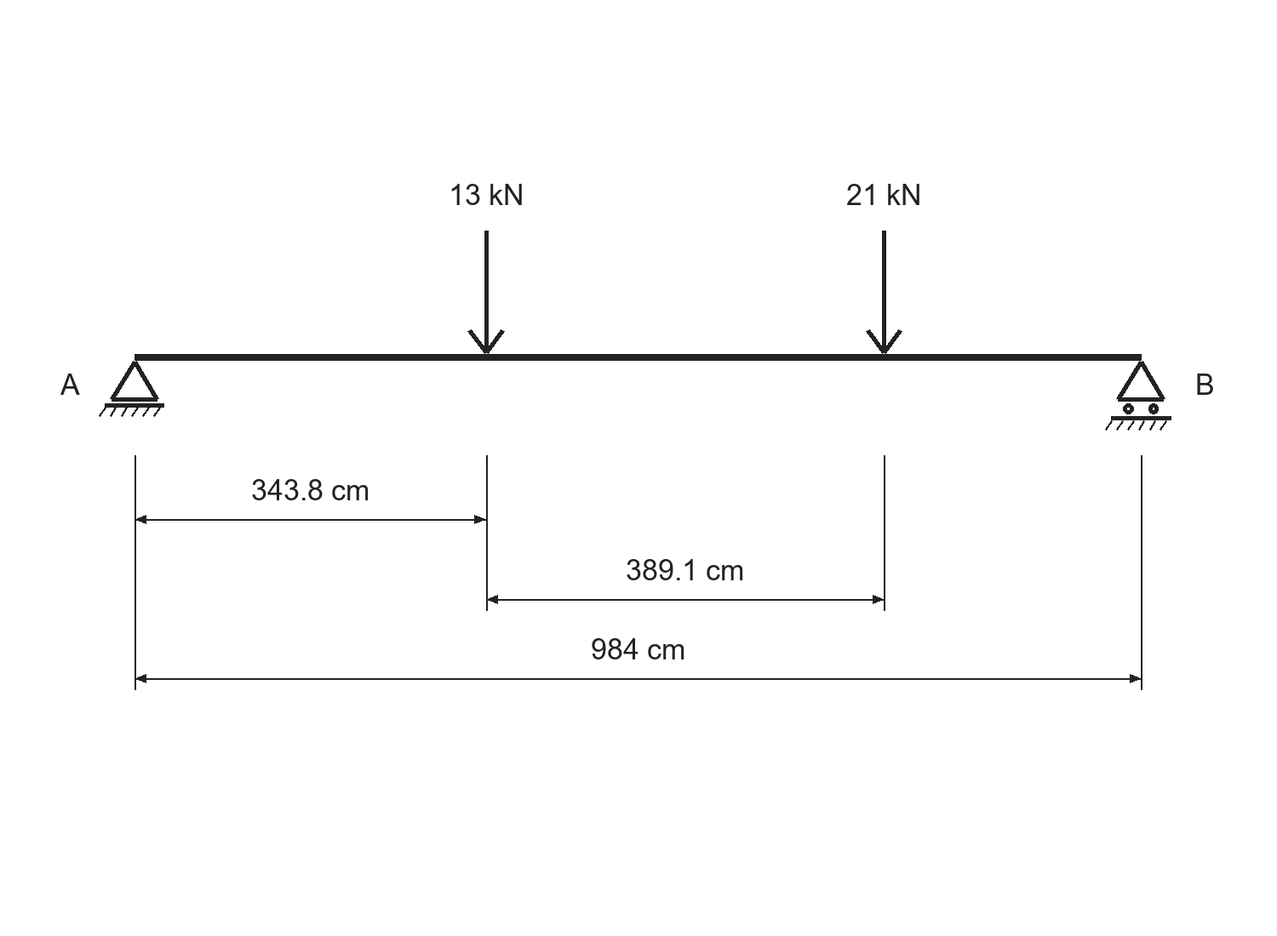pin_support: (99, 361, 164, 417)
point_load: (467, 231, 505, 354), (866, 231, 902, 354)
roller_support: (1105, 361, 1171, 431)
